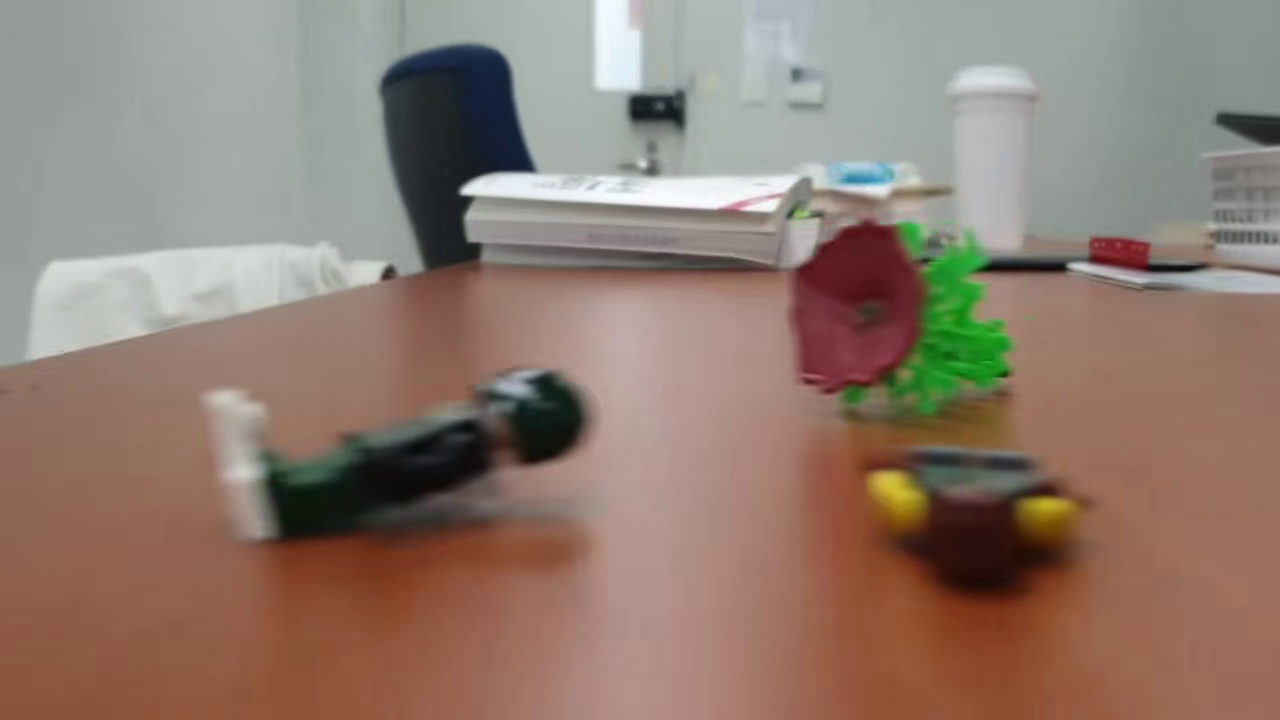people: (201, 360, 594, 551), (860, 449, 1095, 593)
tree: (787, 216, 1014, 430)
